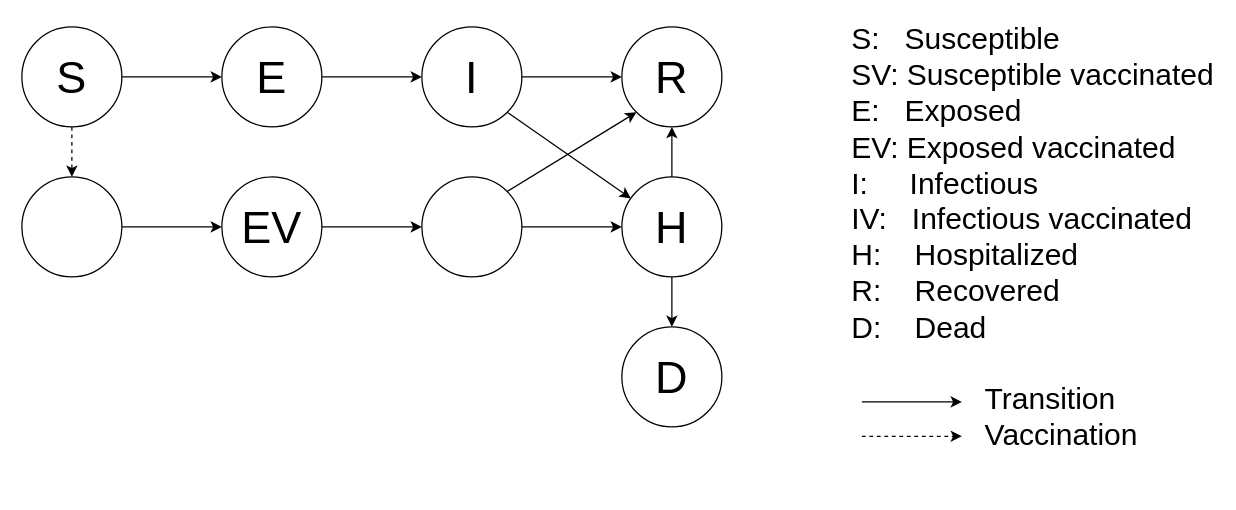
This 1236x510 diagram has some shape labels left out. Each missing label, with the box of its shape:
IV: (421, 176, 522, 277)
SV: (21, 176, 122, 277)
